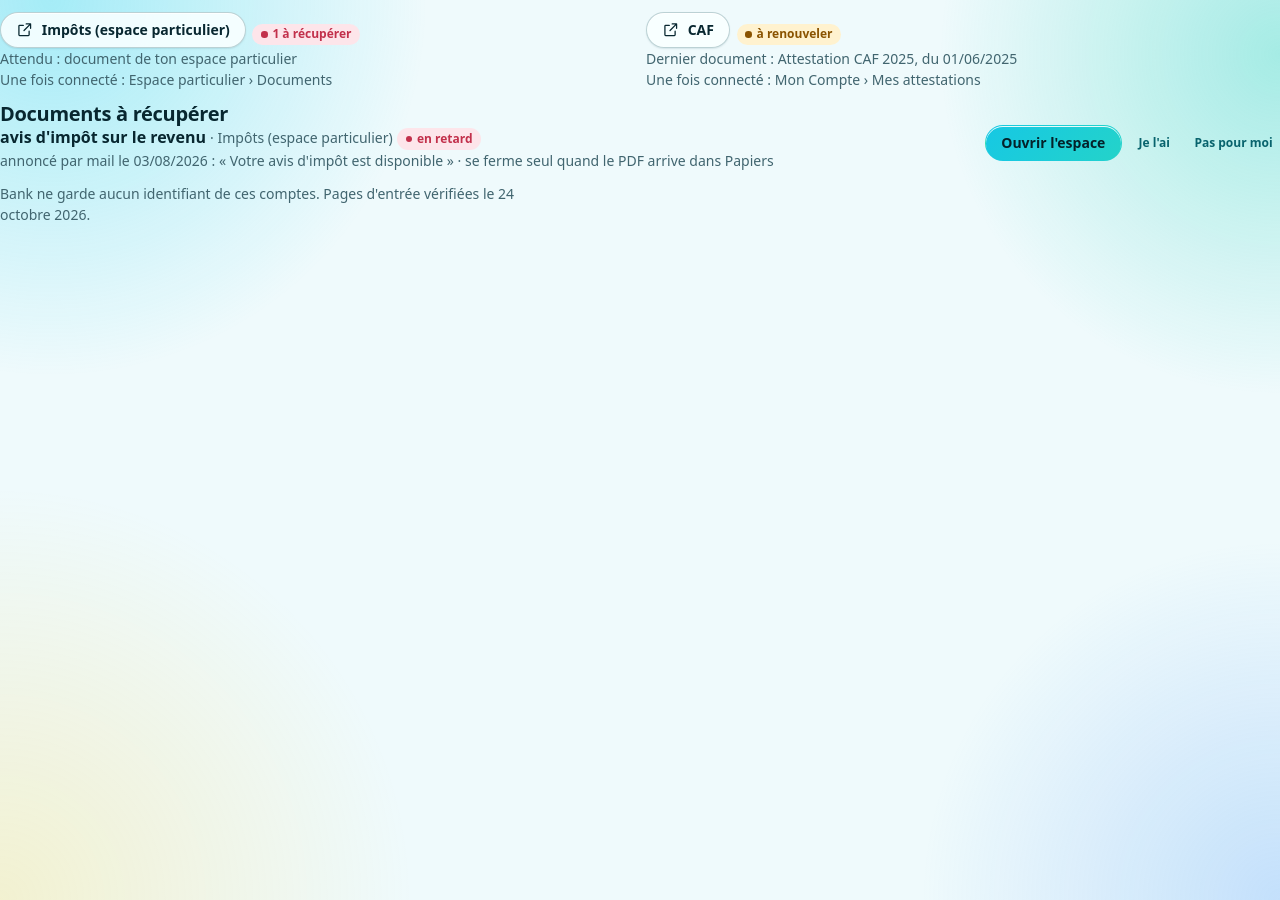
Connecteurs › Comptes de l'État › opens each official space and says what is due
Click the button "Je l'ai": (1154,143) [1131,127,1178,159]
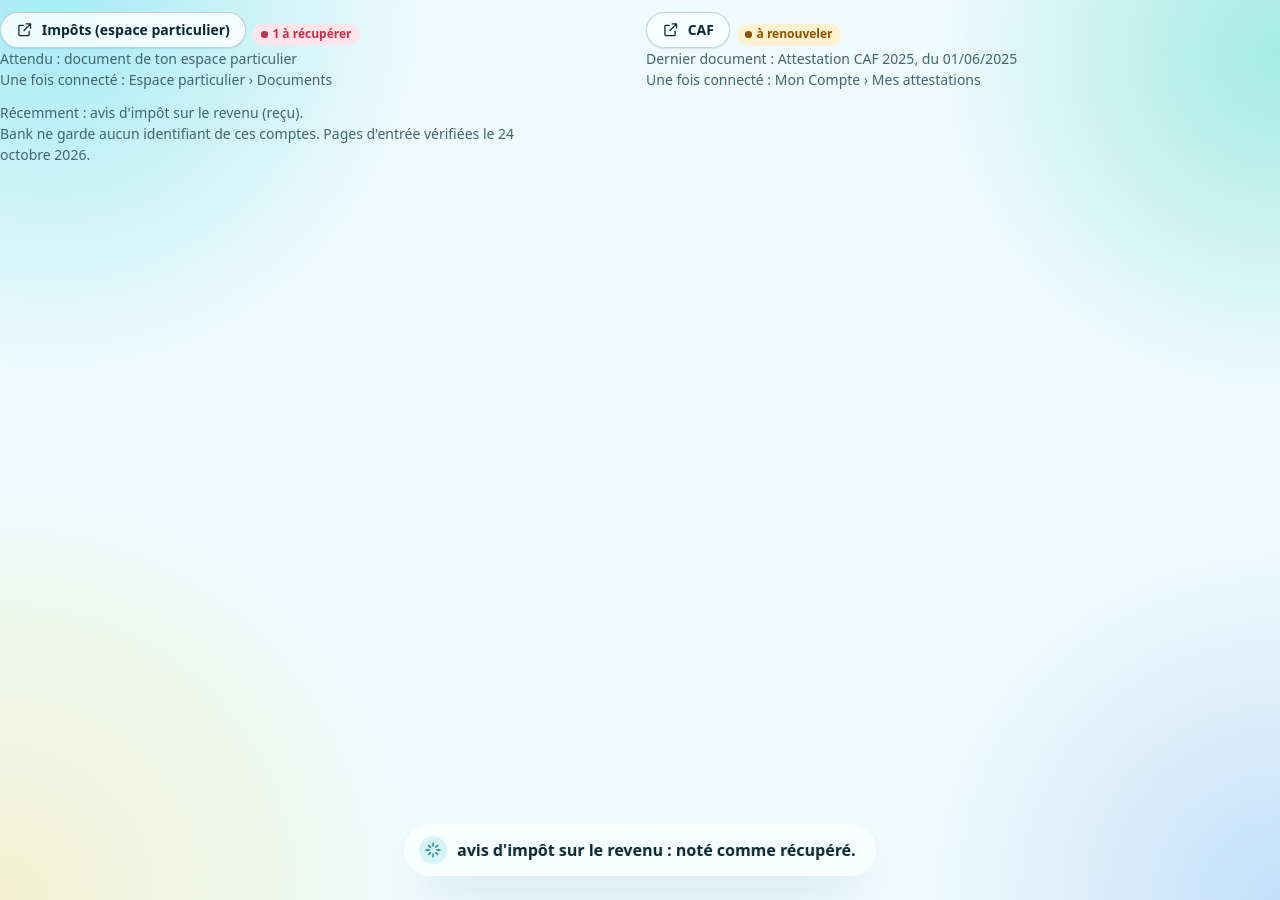
Expected: the text "Récemment : avis d'impôt sur le revenu (reçu)" is shown, [0,103,303,122]
